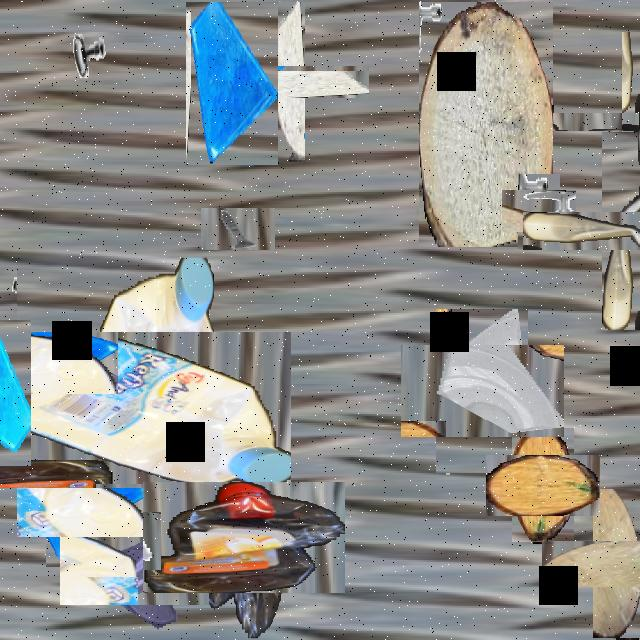glass: (418, 327, 546, 455), (186, 2, 278, 165), (77, 505, 193, 622), (31, 447, 137, 552), (0, 320, 31, 466)
metal: (212, 350, 270, 454), (510, 182, 568, 241), (209, 200, 267, 259), (69, 16, 109, 87), (0, 268, 17, 358)
plastic: (22, 295, 254, 526), (165, 458, 322, 616), (562, 171, 640, 290), (581, 72, 640, 172)
wood: (419, 2, 553, 247), (241, 34, 337, 130), (499, 442, 587, 530), (567, 514, 640, 612)
